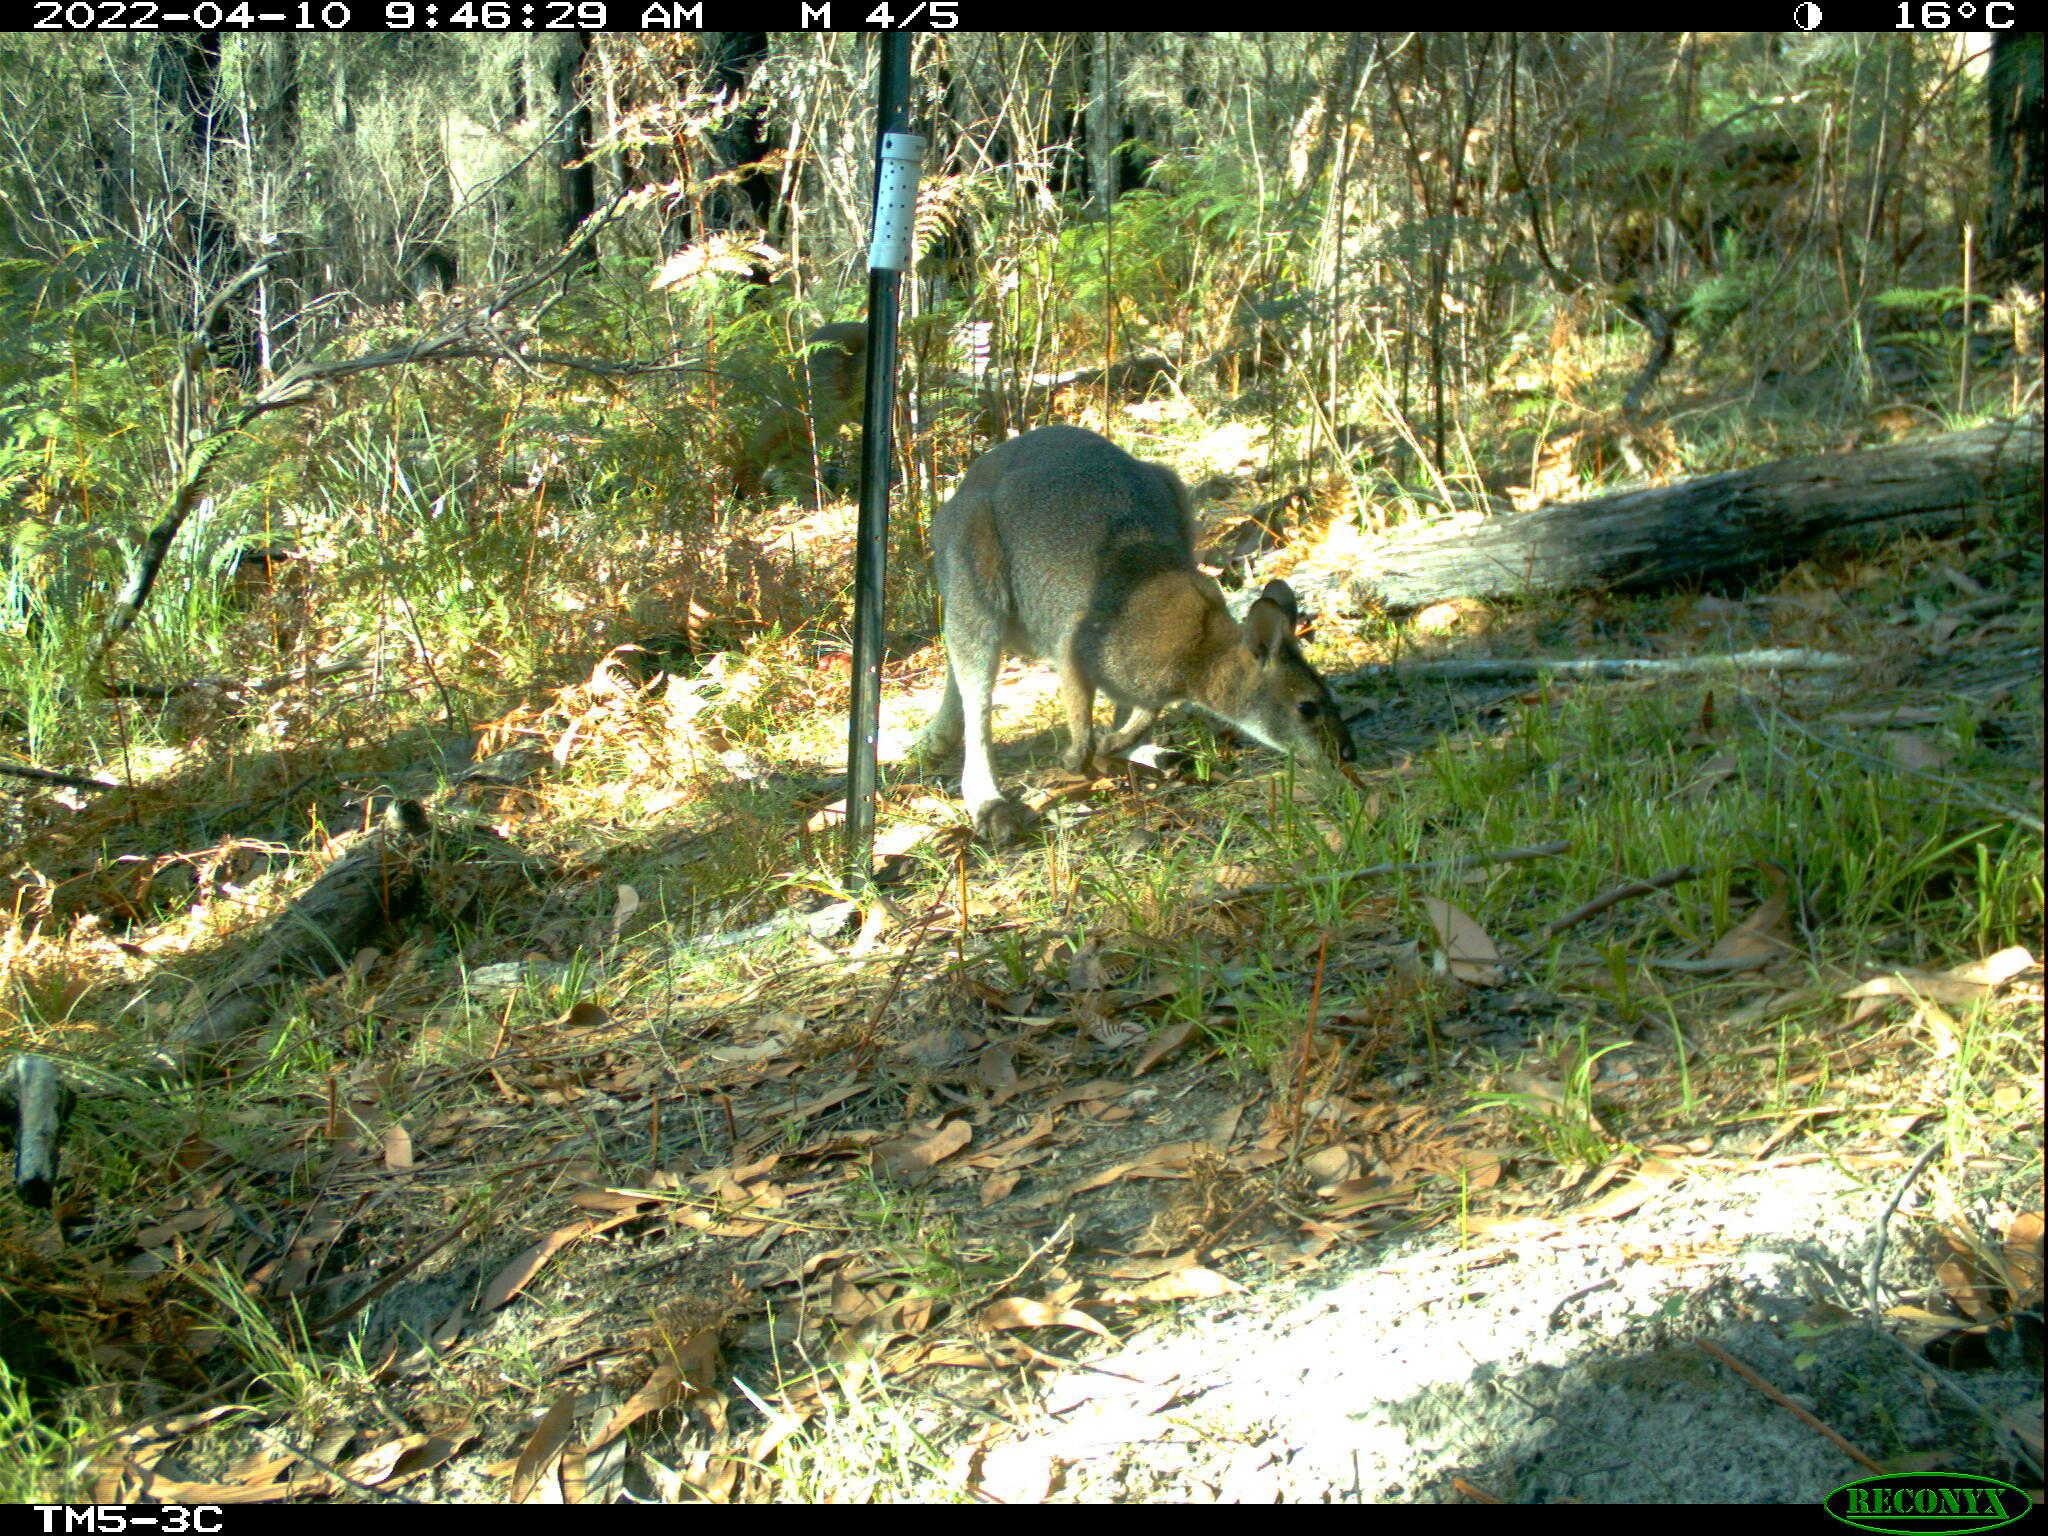Red-necked wallaby: (903, 429, 1363, 866)
